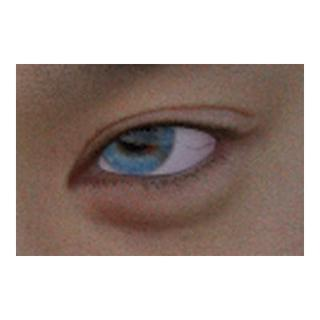pupil: (120, 120, 151, 151)
